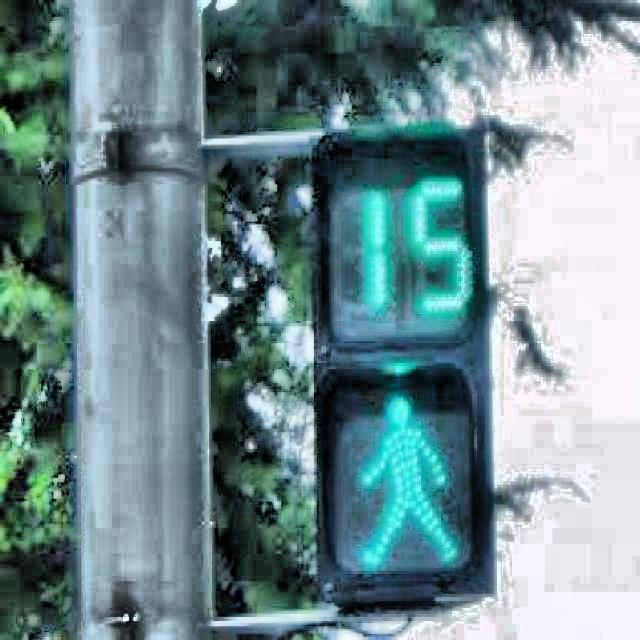semaforo pedestre: (254, 61, 584, 598)
